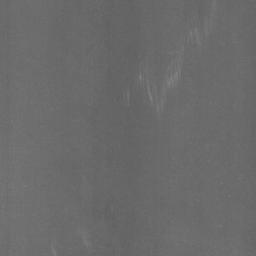Silk spot: (145, 64, 192, 100)
